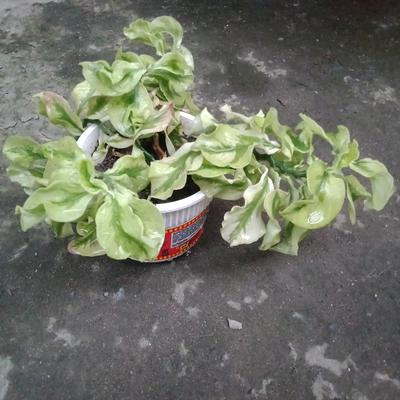Pothos plant: (38, 49, 381, 263)
